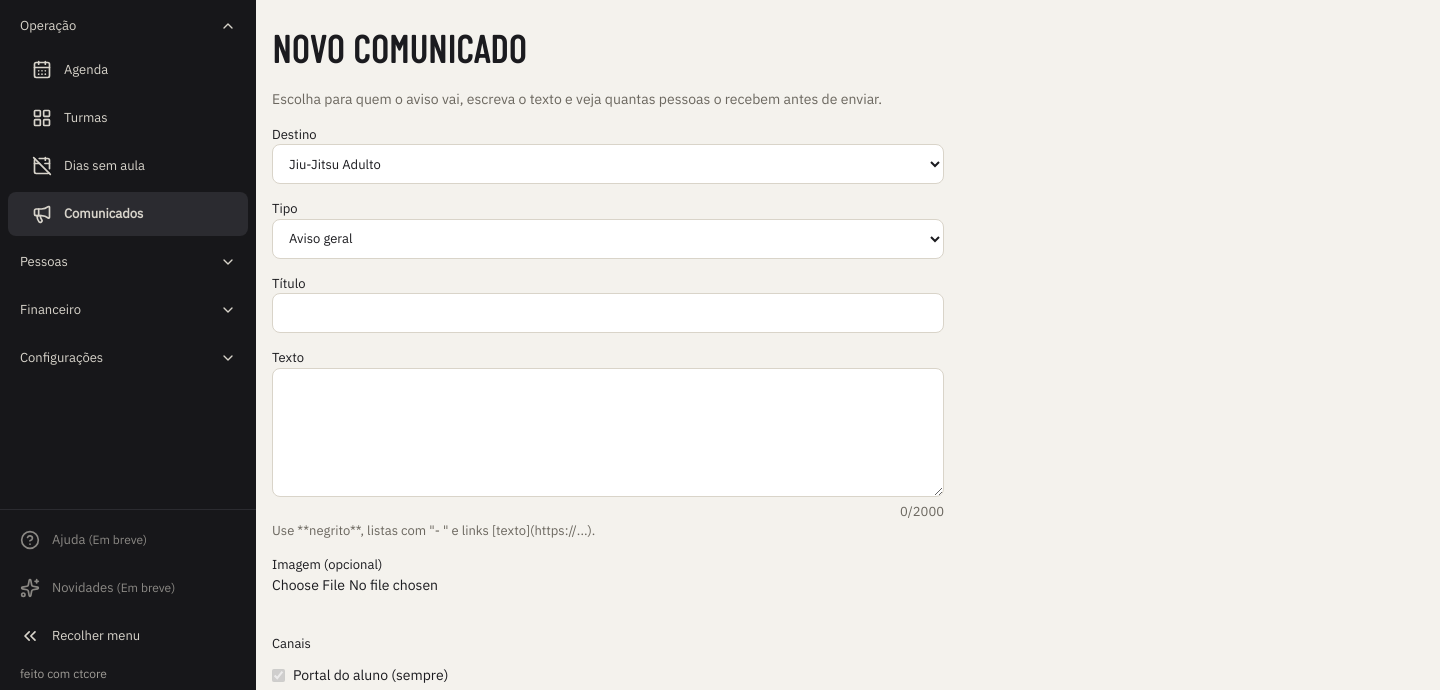
it: NewAnnouncementPage (RF-COM-02) › CA24: 400 com campo mostra a mensagem junto do campo, mantém o formulário e leva o foco ao primeiro erro
Check: the dropdown labelled "Destino" is shown, box [272,144,944,184]
Type "Meu texto" into the text box labelled "Texto" at (608, 432), box [272,368,944,497]
(page scrolled)
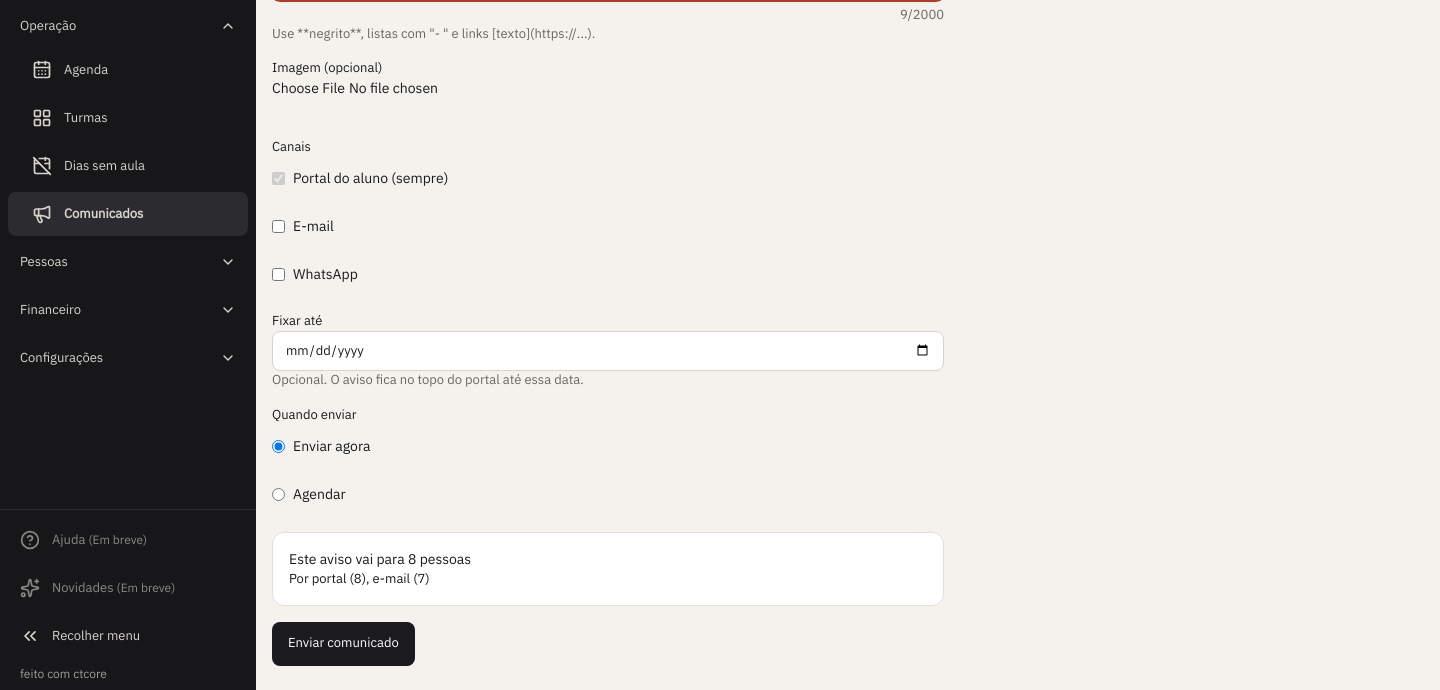
Click the button "Enviar comunicado" at (343, 644), box [272,622,415,666]
(page scrolled)
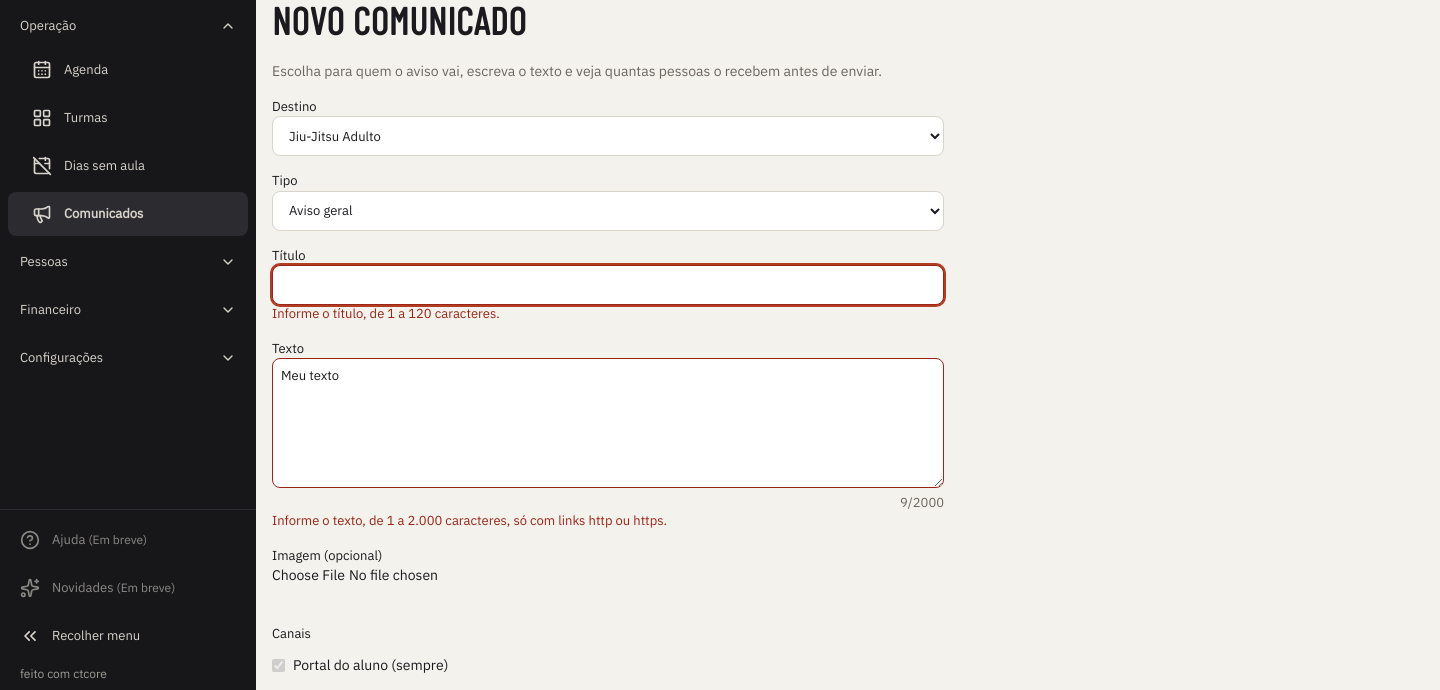
Check: the text "Informe o texto, de 1 a 2.000" is shown, box [272,512,667,529]
